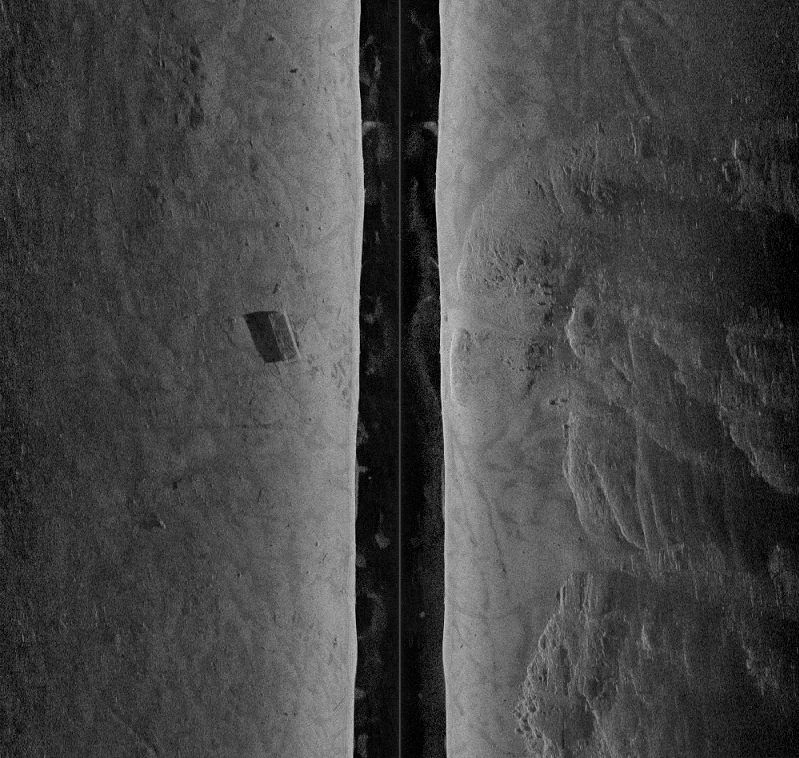ship: (267, 308, 302, 364)
